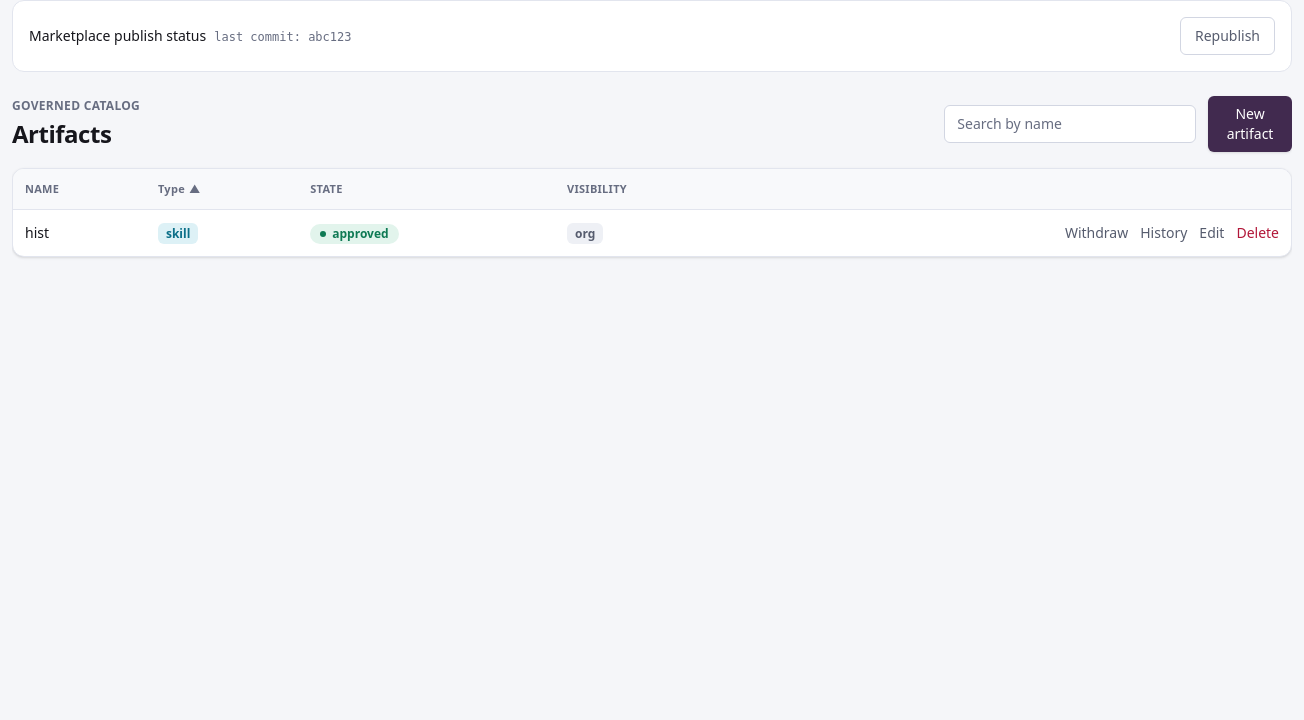
history: Require this or newer PUTs the CLICKED row's own revision and a fresh If-Match, not a constant
Step 1. Click the button with aria-label "history for" → (1164, 233), box [1140,223,1187,243]
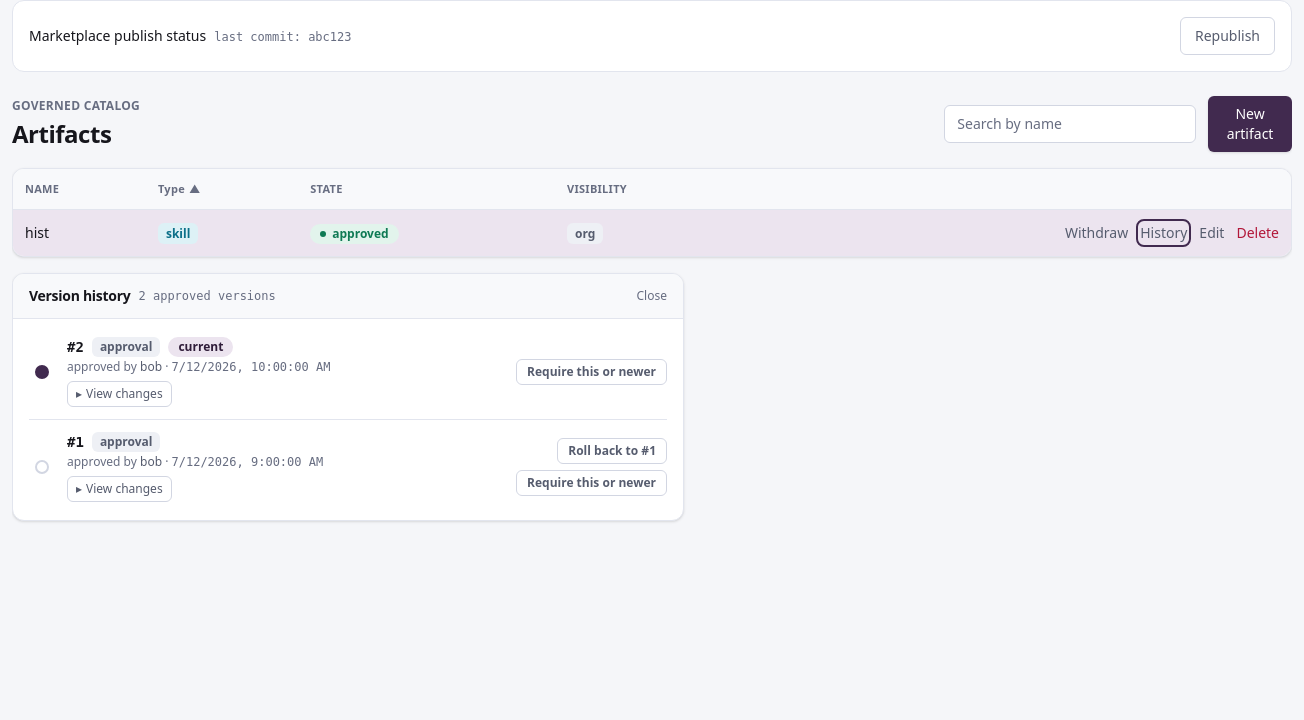
# First click: row #2, with the ORIGINAL rowVersion (47).
Step 2. Click the button "Require this or newer" in the row of "7/12/2026, 10:00:00 AM" → (592, 372), box [516,359,667,385]
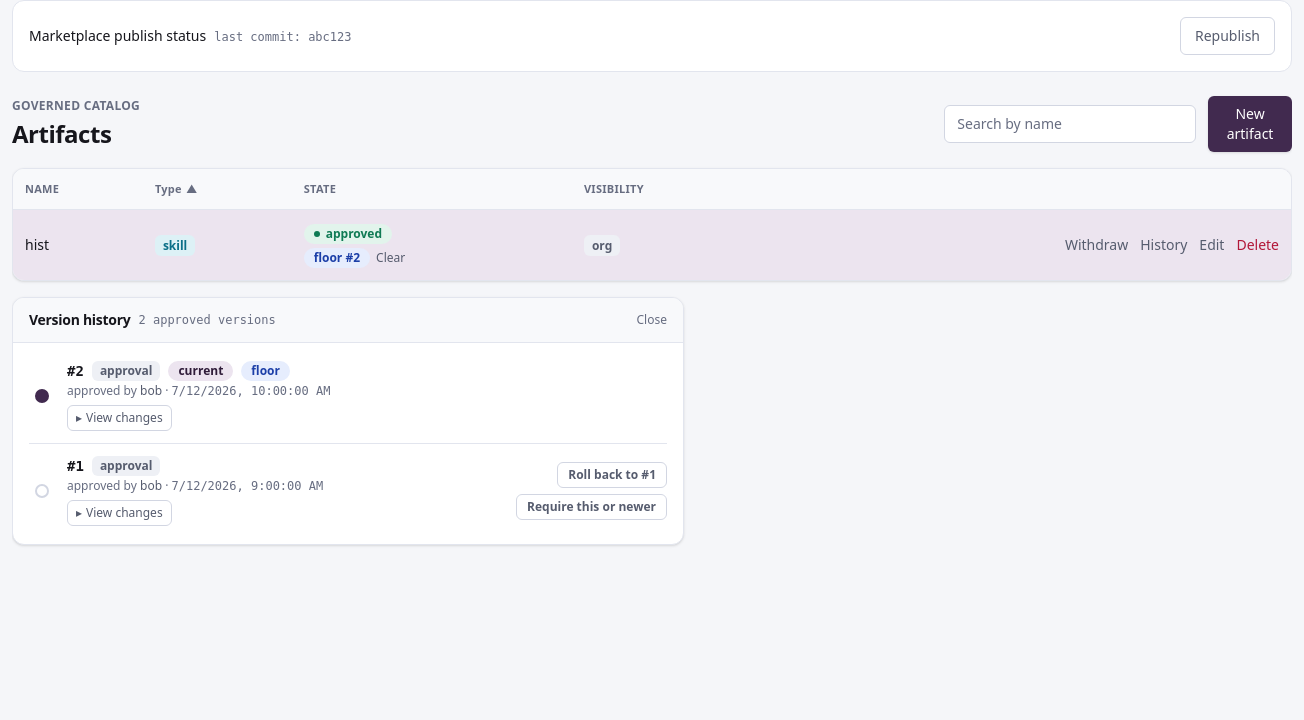
Expected: the text "floor #2" is shown, [304,248,370,268]
Step 3. Click the button "Require this or newer" → (592, 507), box [516,494,667,520]
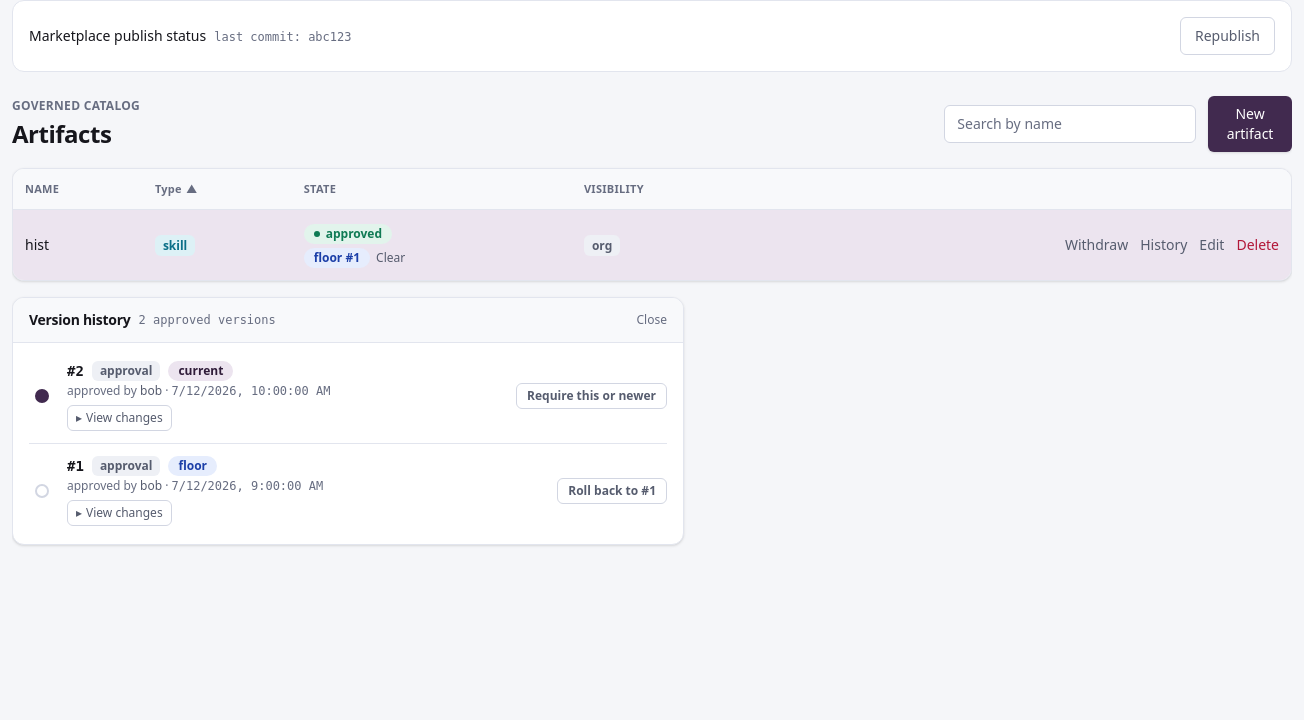
Expected: the text "floor #1" is shown, [304,248,370,268]
